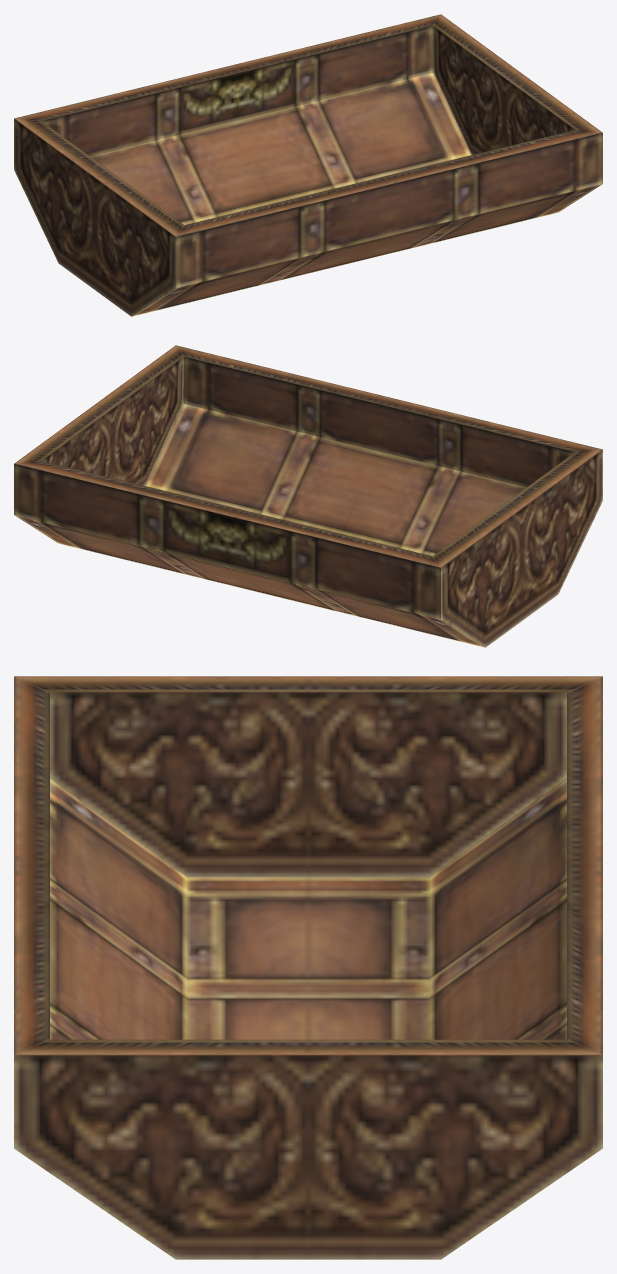
Rendered from dcfx_xiangz_03.FBX.
3 views of the same model, one above another, from view 1: azimuth 30°, elevation 25°; view 2: azimuth 150°, elevation 25°; view 3: azimuth 270°, elevation 25° (orthographic). The views are drawn at different scales.
Visible parts, largest first — view 1: dcfx_xiangz_03; view 2: dcfx_xiangz_03; view 3: dcfx_xiangz_03.
Part boxes in pixels (x1,y1,x2,y2): dcfx_xiangz_03: (14, 14, 602, 316); dcfx_xiangz_03: (14, 345, 602, 647); dcfx_xiangz_03: (14, 676, 602, 1259).
Size of the model in its own units: 160 by 40.15 by 105.
